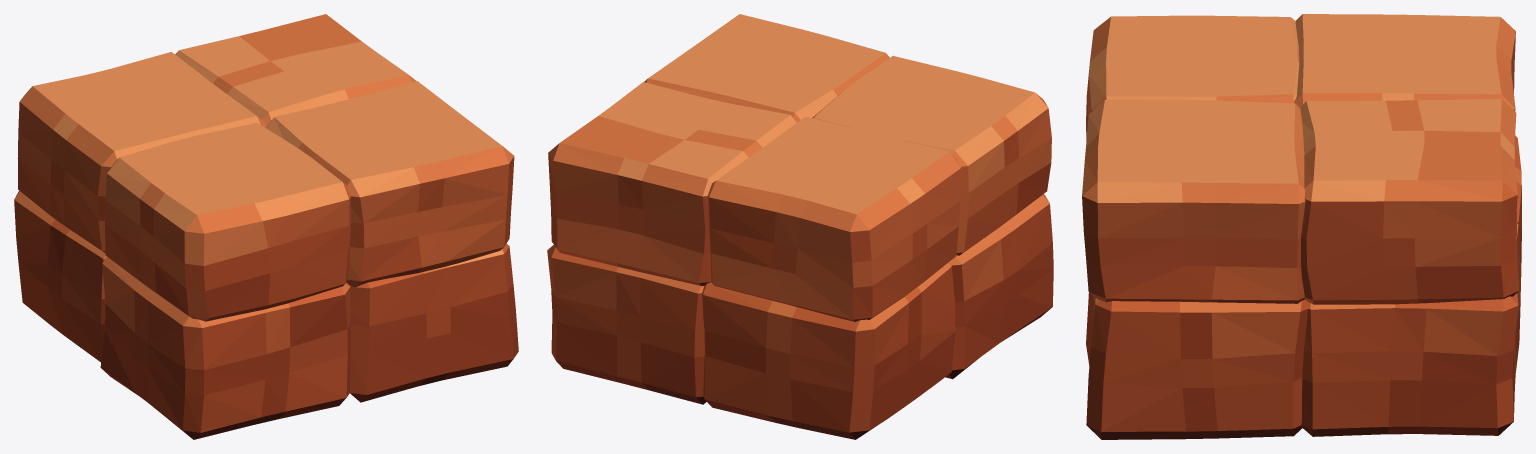
File: SM_ROCK_BLOCK_04.fbx
3 renders of one model, left to right at view 1: azimuth 30°, elevation 25°; view 2: azimuth 150°, elevation 25°; view 3: azimuth 270°, elevation 25°, orthographic. The views are drawn at different scales.
Visible parts, largest first — view 1: ROCK_BLOCK_04; view 2: ROCK_BLOCK_04; view 3: ROCK_BLOCK_04.
Boxes of the visible parts, x1,y1,x2,y2 form: ROCK_BLOCK_04: (14,14,518,439); ROCK_BLOCK_04: (547,14,1053,439); ROCK_BLOCK_04: (1082,14,1521,439).
Bounding box in the file's own units: 1.39 × 1.39 × 0.8944.
